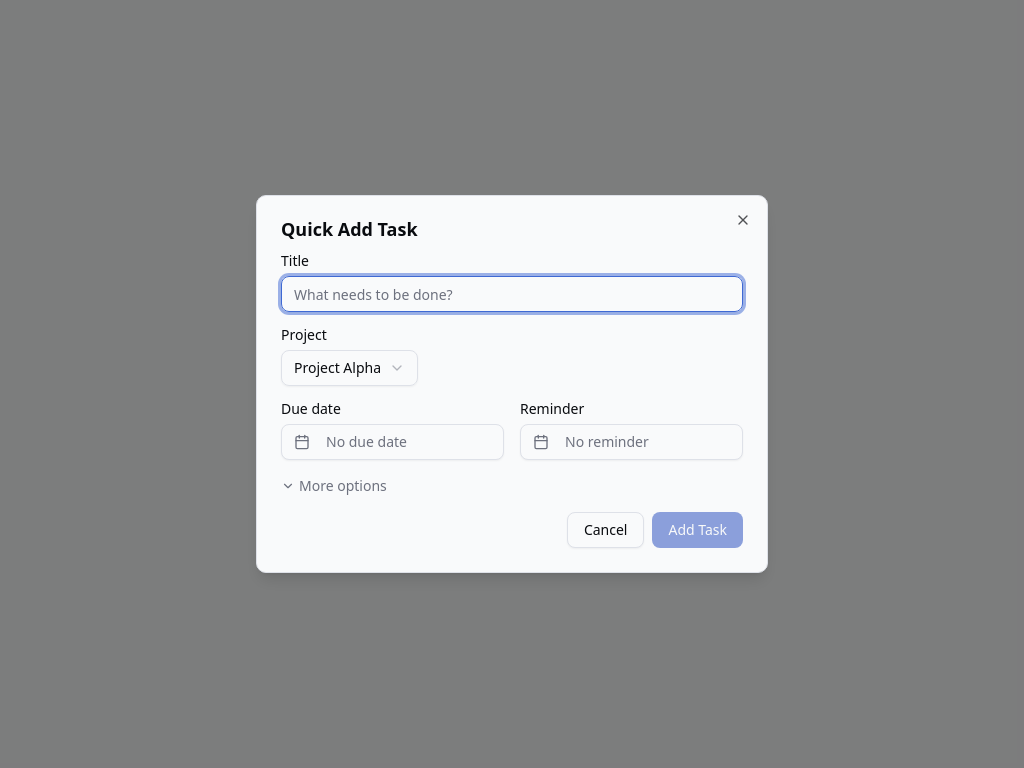
Test: QuickAddTaskDialog › enables submit when title is entered and project is selected
Expected: the heading "Quick Add Task" is shown, [281,217,418,241]
Type "My new task" into the field labelled "Title" at (512, 294), box [281,276,743,312]
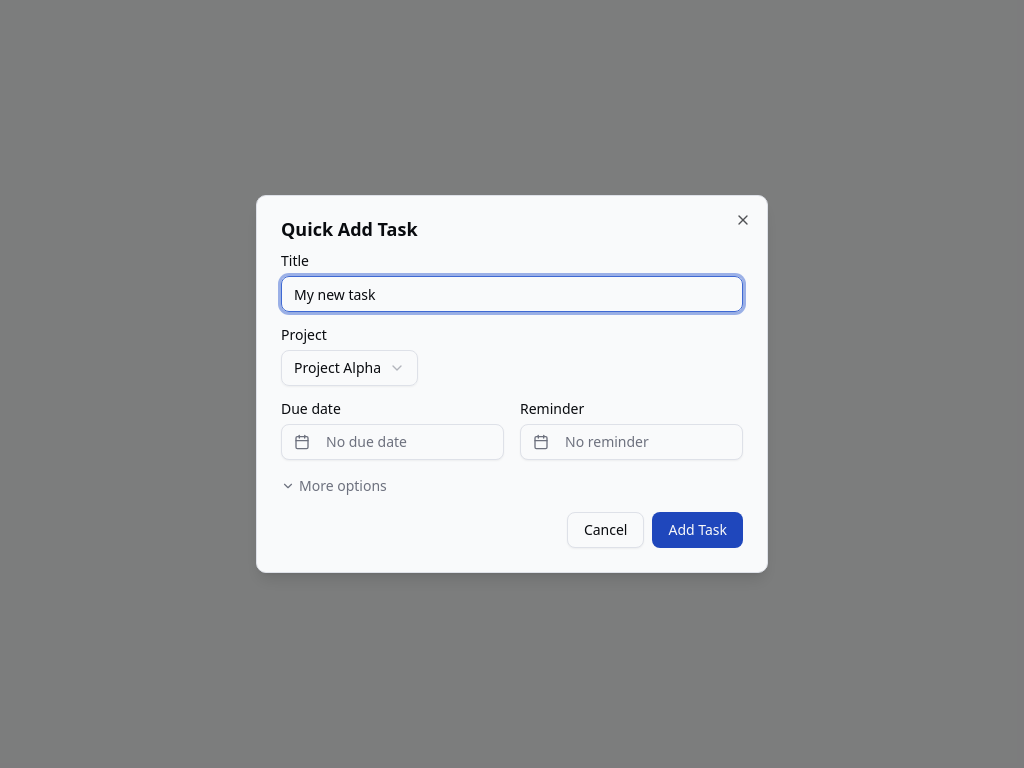
Result: the button "Add Task" is enabled at [652,512,743,548]
